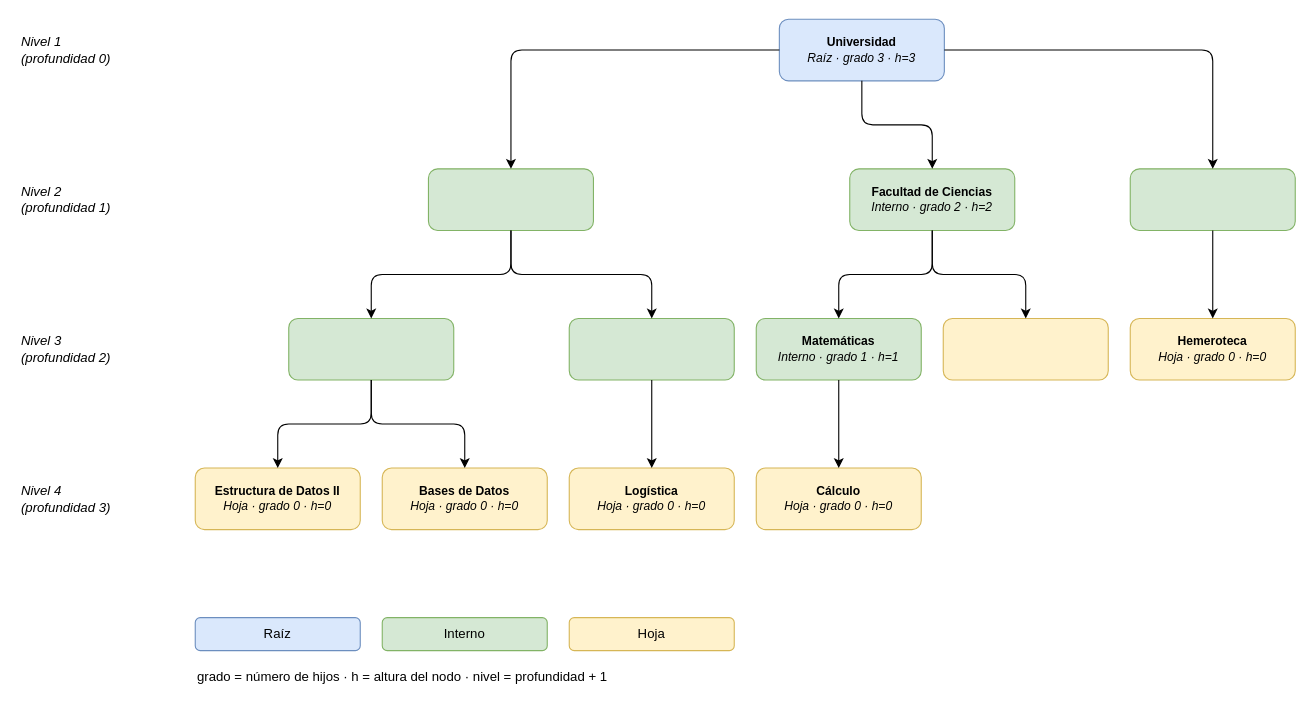
Image size: 1315x707. Some labels were removed from this diagram. Here are the shapes that lost their labels. From the top down, the centre of each, then its label:
(x=510, y=199): Facultad de Ingeniería Interno · grado 2 · h=2
(x=1212, y=199): Biblioteca Interno · grado 1 · h=1
(x=371, y=348): Sistemas Interno · grado 2 · h=1
(x=651, y=348): Industrial Interno · grado 1 · h=1
(x=1025, y=348): Física Hoja · grado 0 · h=0
